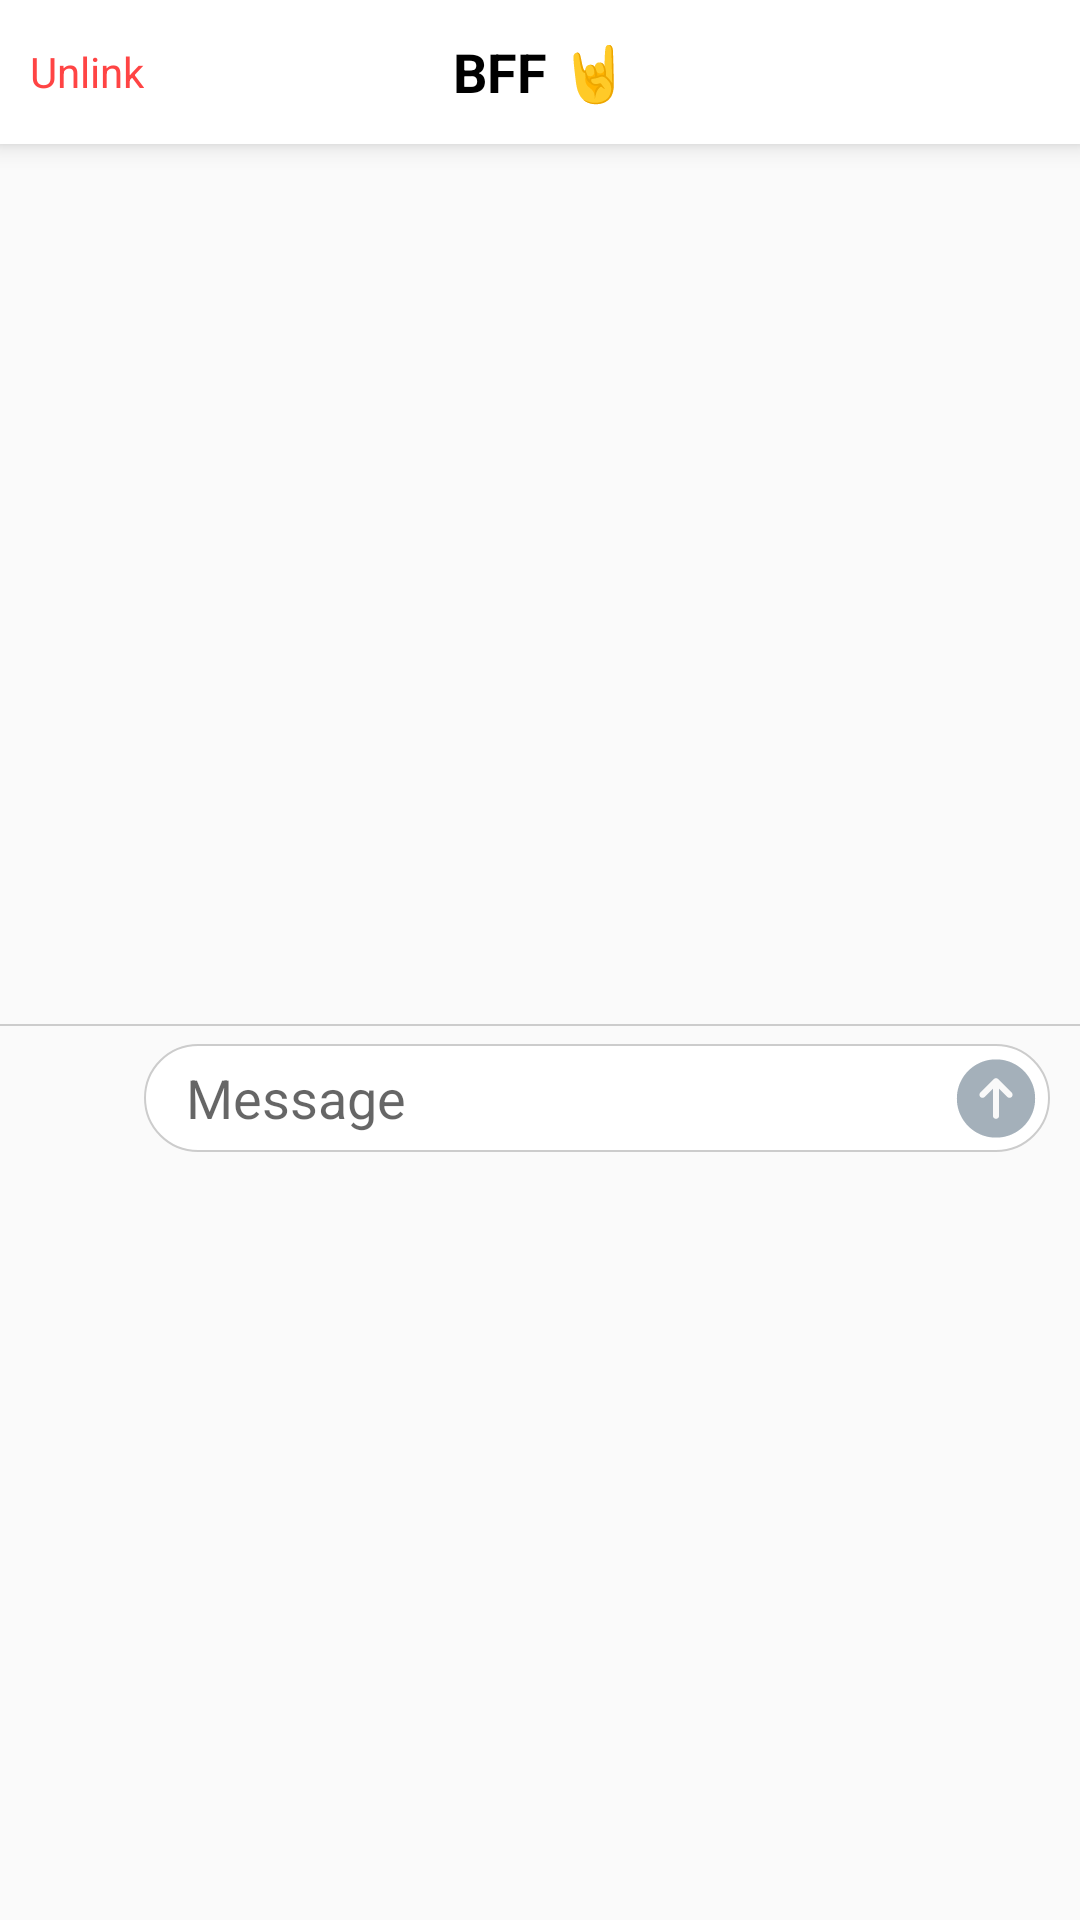

Icon bounding boxes for this 1080w x 1920h phone screenshot, format box=[x1, y1, x2, y2]:
send: box=[957, 1059, 1035, 1138]
